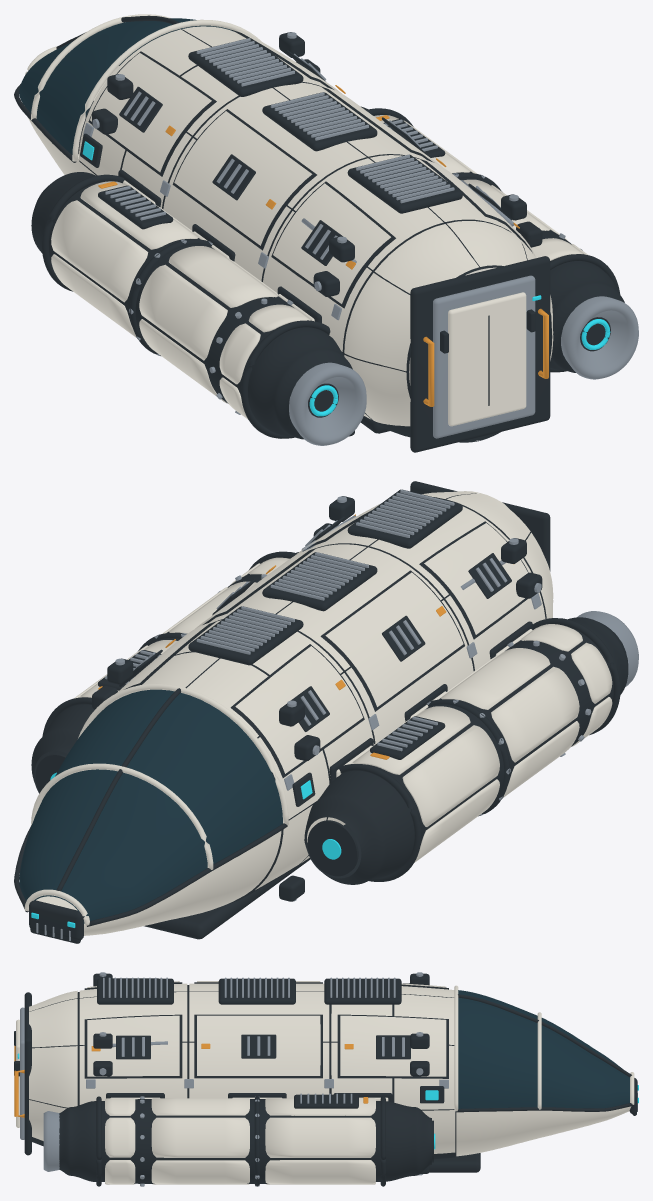
Rendered from spacecraft-pbr-lod0.glb.
The picture shows the model from 3 angles, top to bottom: view 1: azimuth 30°, elevation 25°; view 2: azimuth 150°, elevation 25°; view 3: azimuth 270°, elevation 25°; orthographic projection. The views are drawn at different scales.
Visible parts, largest first — view 1: Exterior_Hull_Atlas, Exterior_EnginePod_-1_Atlas, AftFrame_Atlas, Exterior_EnginePod_1_Atlas, Door_Outer, Canopy_Glass; view 2: Exterior_Hull_Atlas, Exterior_EnginePod_-1_Atlas, Canopy_Glass, Exterior_EnginePod_1_Atlas, AftFrame_Atlas; view 3: Exterior_Hull_Atlas, Exterior_EnginePod_1_Atlas, Canopy_Glass, AftFrame_Atlas.
Boxes of the visible parts, x1=… form: Exterior_Hull_Atlas: x1=14, y1=14, x2=553, y2=442; Exterior_EnginePod_-1_Atlas: x1=31, y1=172, x2=366, y2=445; AftFrame_Atlas: x1=410, y1=256, x2=550, y2=452; Exterior_EnginePod_1_Atlas: x1=361, y1=106, x2=638, y2=379; Door_Outer: x1=448, y1=292, x2=526, y2=426; Canopy_Glass: x1=19, y1=18, x2=233, y2=154; Exterior_Hull_Atlas: x1=14, y1=489, x2=553, y2=943; Exterior_EnginePod_-1_Atlas: x1=304, y1=611, x2=638, y2=884; Canopy_Glass: x1=19, y1=689, x2=282, y2=923; Exterior_EnginePod_1_Atlas: x1=31, y1=551, x2=298, y2=793; AftFrame_Atlas: x1=410, y1=481, x2=550, y2=571; Exterior_Hull_Atlas: x1=14, y1=972, x2=638, y2=1175; Exterior_EnginePod_1_Atlas: x1=43, y1=1093, x2=435, y2=1186; Canopy_Glass: x1=458, y1=990, x2=629, y2=1108; AftFrame_Atlas: x1=20, y1=992, x2=31, y2=1155.
Bounding box in the file's own units: 7.8 × 4.8 × 15.6.
Materials: 3 (2 with a texture image).
